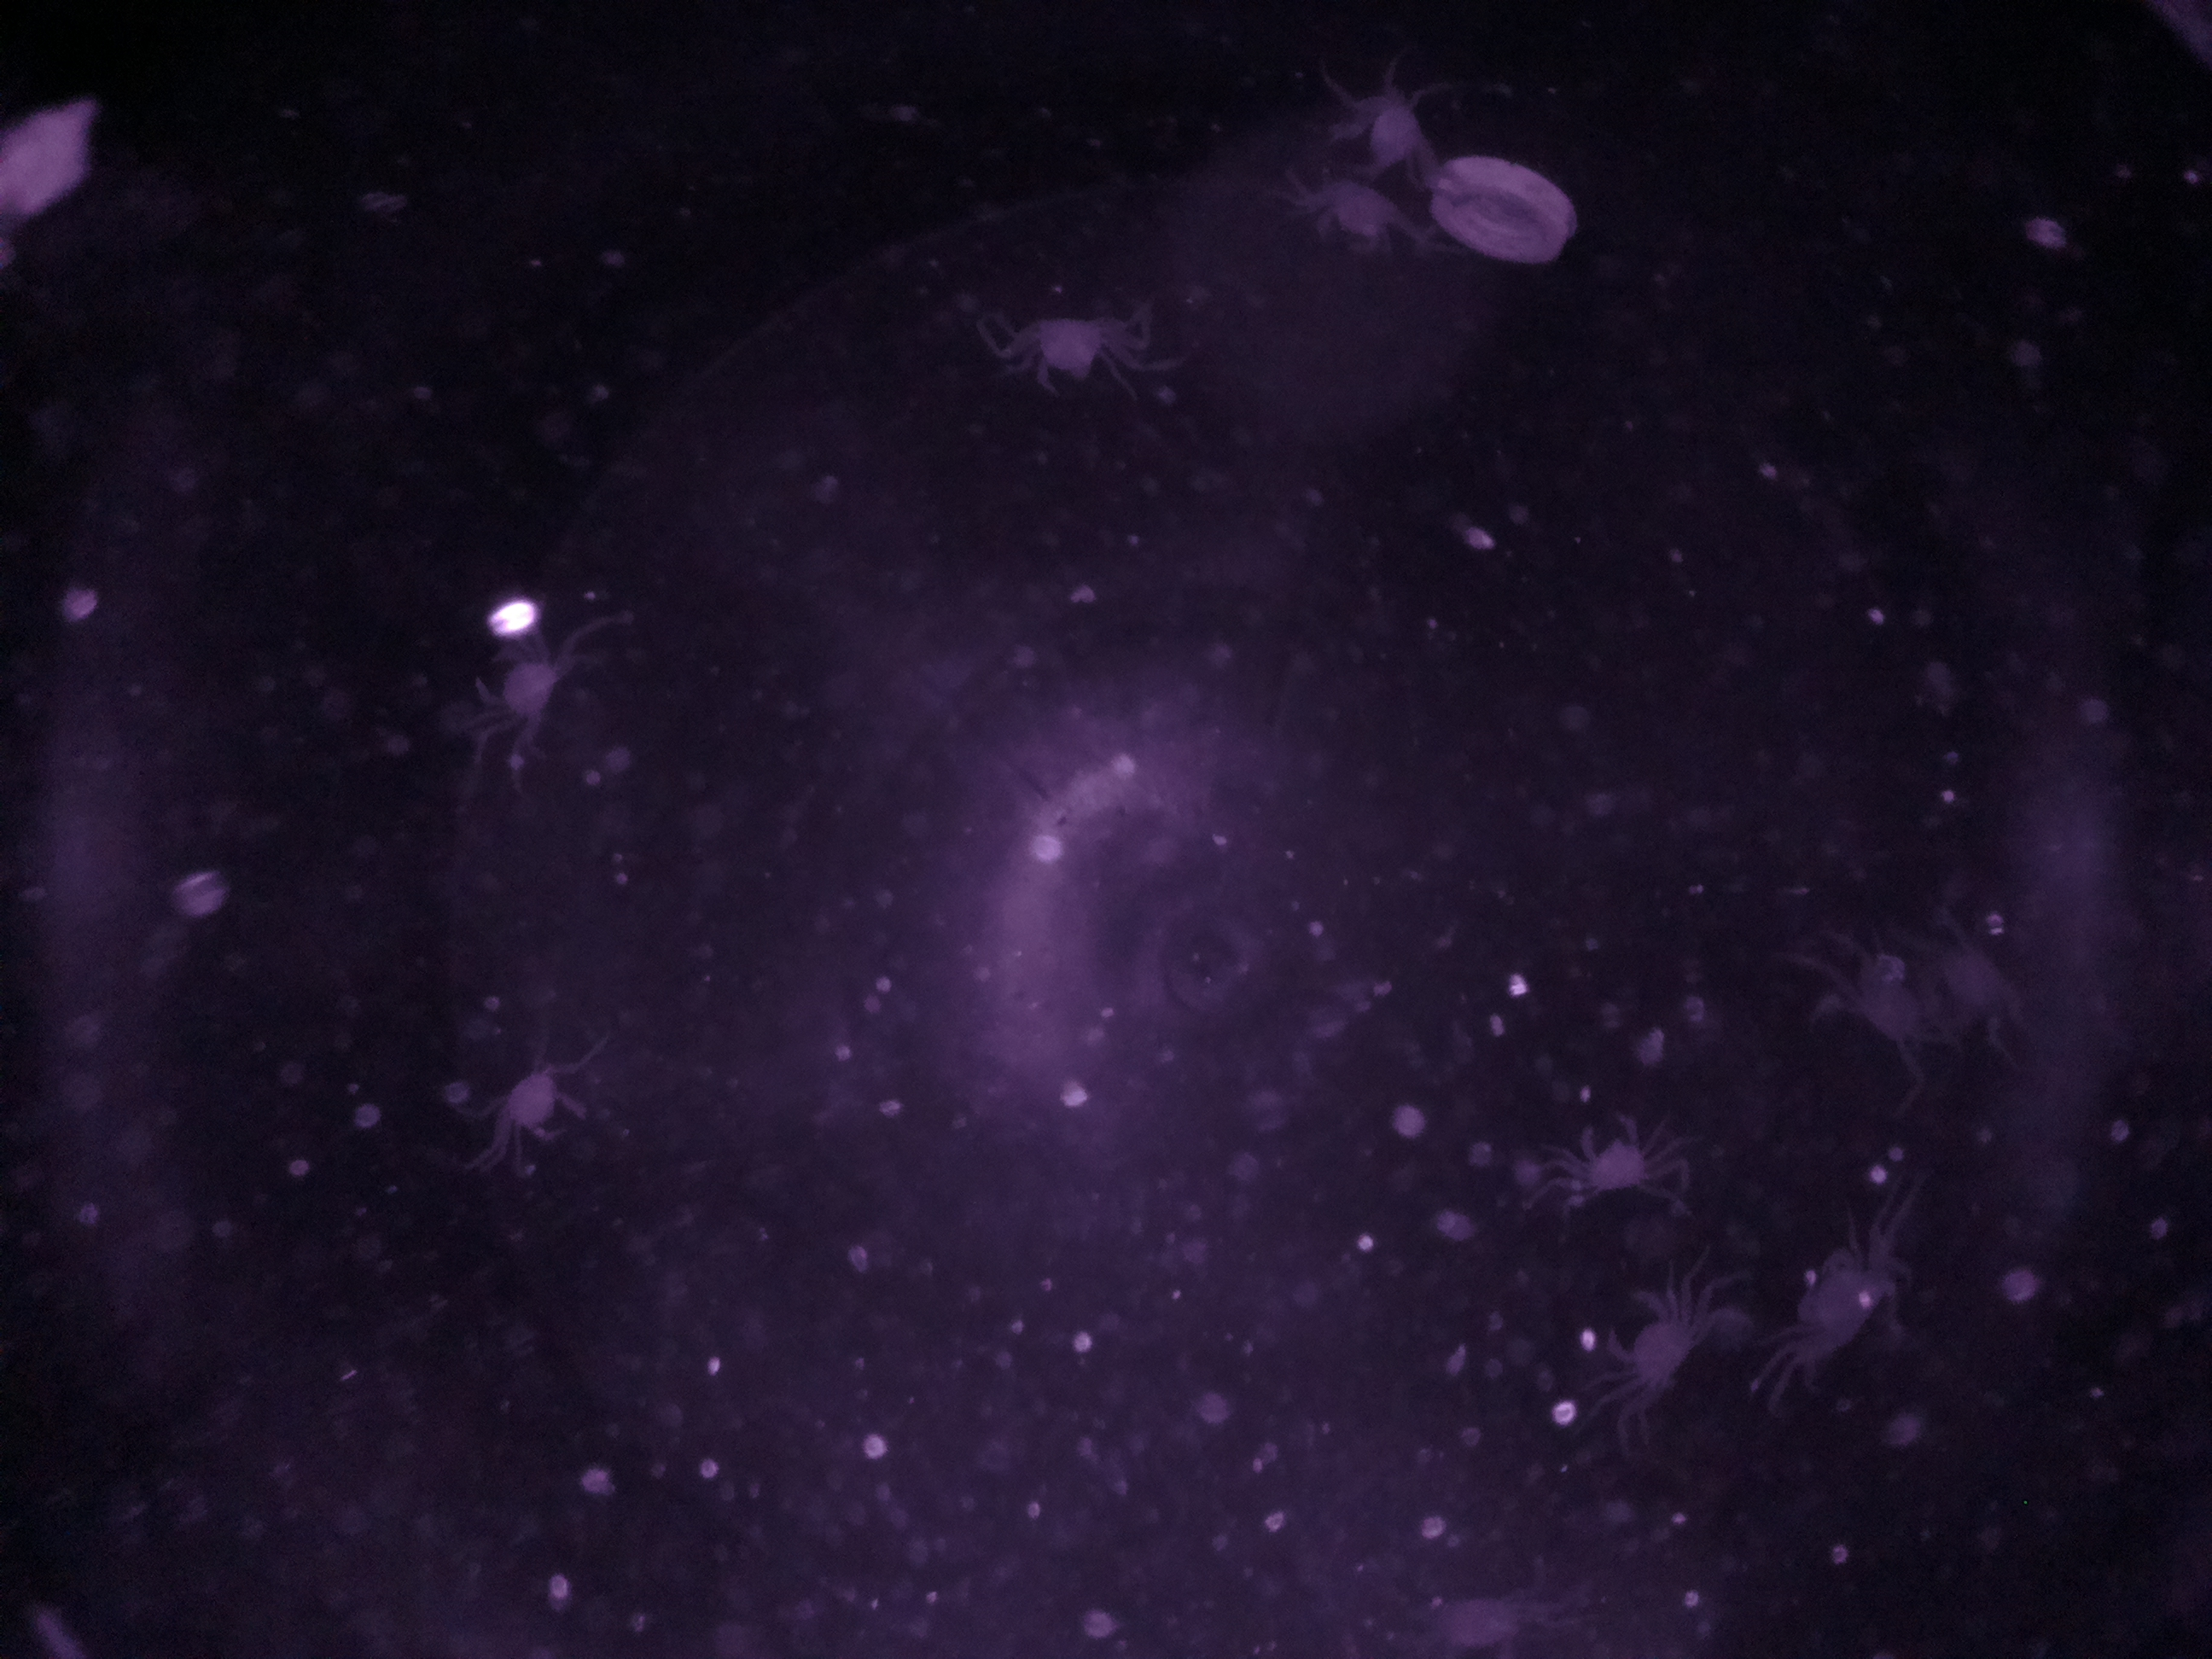Crab: (1585, 1272, 1723, 1417), (472, 1044, 599, 1168), (1010, 291, 1125, 415), (1557, 1103, 1674, 1220), (1298, 162, 1409, 279)
